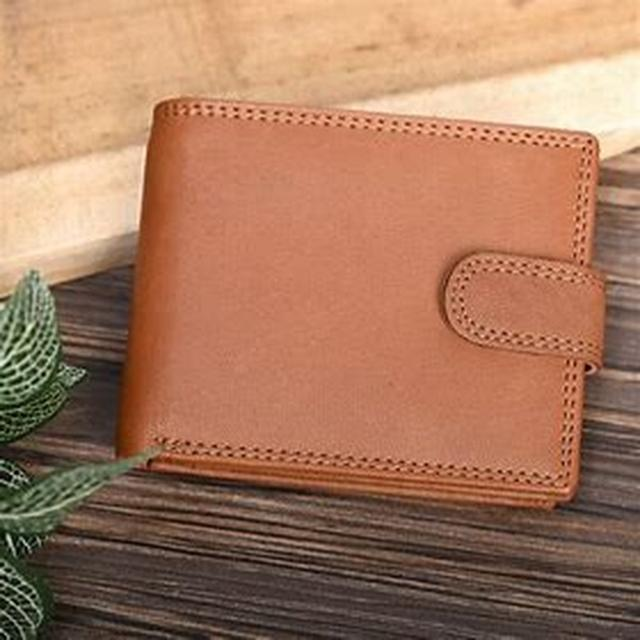wallet: (115, 98, 613, 515)
